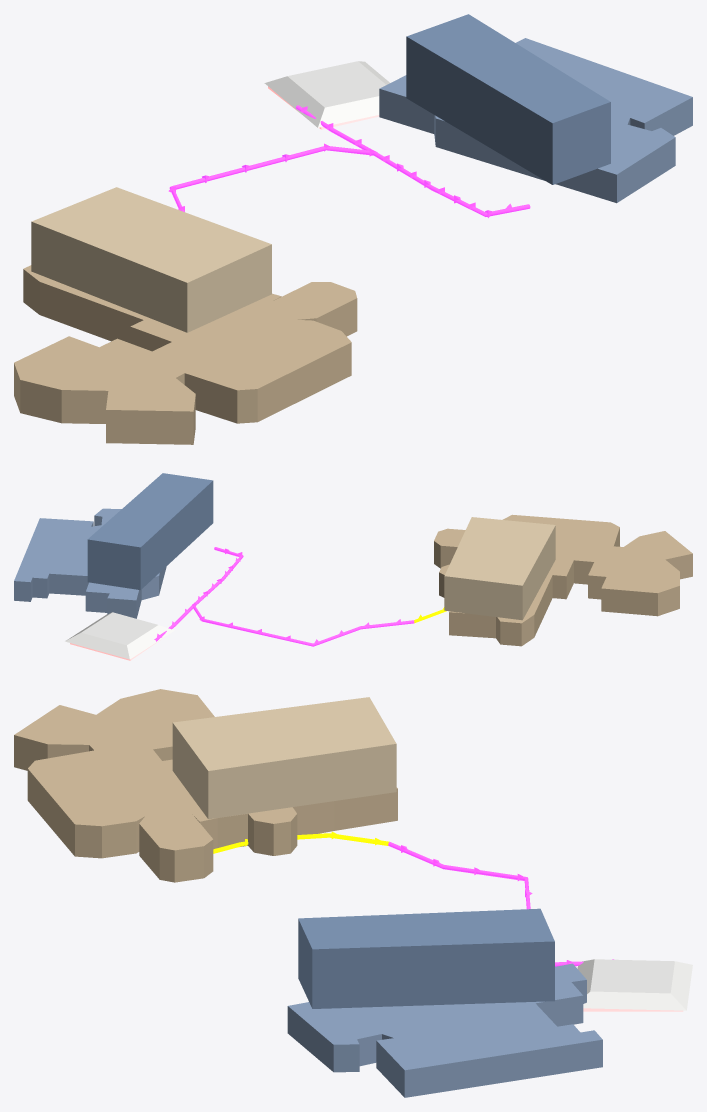
File: sedes_minume.glb
3 views of the same model, one above another, from view 1: azimuth 30°, elevation 25°; view 2: azimuth 150°, elevation 25°; view 3: azimuth 270°, elevation 25° (orthographic). The views are drawn at different scales.
Visible parts, largest first — view 1: Renaissance Jaragua (complejo), Torre Jaragua, Torre Sheraton, Sheraton (podio de salones), Malecón Terrace (carpa), Ruta Jaragua → Sheraton, Ruta Sheraton → Malecón Terrace; view 2: Renaissance Jaragua (complejo), Torre Sheraton, Torre Jaragua, Sheraton (podio de salones), Malecón Terrace (carpa), Ruta Jaragua → Sheraton, Ruta Sheraton → Malecón Terrace; view 3: Renaissance Jaragua (complejo), Torre Sheraton, Sheraton (podio de salones), Torre Jaragua, Malecón Terrace (carpa), Ruta Jaragua → Sheraton, Ruta interna Jaragua.
Part boxes in pixels (x1=…): Renaissance Jaragua (complejo): x1=14, y1=265, x2=357, y2=444; Torre Jaragua: x1=31, y1=187, x2=271, y2=332; Torre Sheraton: x1=406, y1=14, x2=610, y2=184; Sheraton (podio de salones): x1=379, y1=38, x2=692, y2=203; Malecón Terrace (carpa): x1=264, y1=61, x2=389, y2=127; Ruta Jaragua → Sheraton: x1=169, y1=146, x2=530, y2=216; Ruta Sheraton → Malecón Terrace: x1=296, y1=105, x2=530, y2=216; Renaissance Jaragua (complejo): x1=434, y1=514, x2=692, y2=646; Torre Sheraton: x1=87, y1=473, x2=213, y2=589; Torre Jaragua: x1=444, y1=517, x2=555, y2=620; Sheraton (podio de salones): x1=14, y1=508, x2=166, y2=618; Malecón Terrace (carpa): x1=65, y1=612, x2=174, y2=659; Ruta Jaragua → Sheraton: x1=193, y1=548, x2=414, y2=646; Ruta Sheraton → Malecón Terrace: x1=154, y1=547, x2=243, y2=641; Renaissance Jaragua (complejo): x1=14, y1=689, x2=397, y2=882; Torre Sheraton: x1=298, y1=908, x2=554, y2=1008; Sheraton (podio de salones): x1=287, y1=963, x2=602, y2=1097; Torre Jaragua: x1=172, y1=697, x2=396, y2=819; Malecón Terrace (carpa): x1=577, y1=959, x2=692, y2=1010; Ruta Jaragua → Sheraton: x1=388, y1=842, x2=530, y2=909; Ruta interna Jaragua: x1=213, y1=833, x2=389, y2=853.
Bounding box in the file's own units: 352 × 39 × 268.
